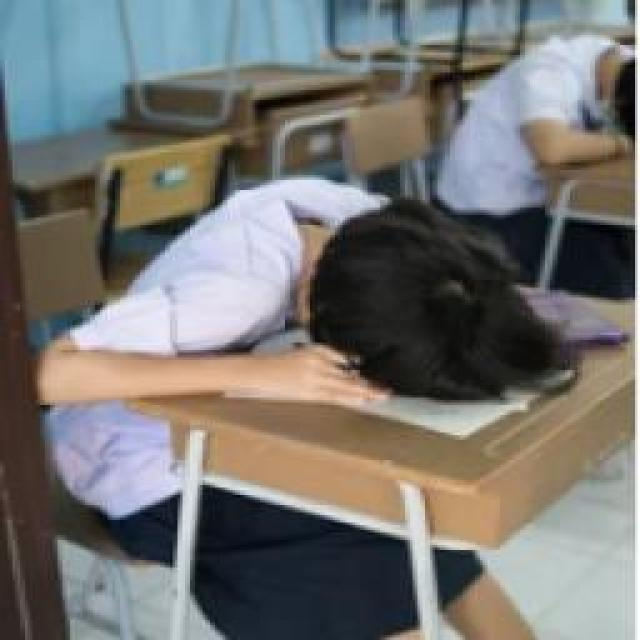sleep: (38, 172, 568, 422)
